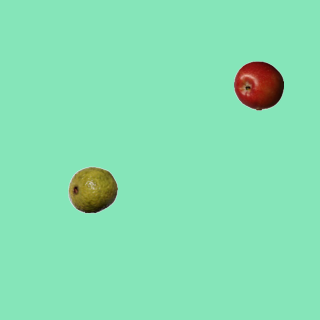Apple Braeburn: (233, 60, 283, 110)
Guava: (67, 164, 117, 214)
